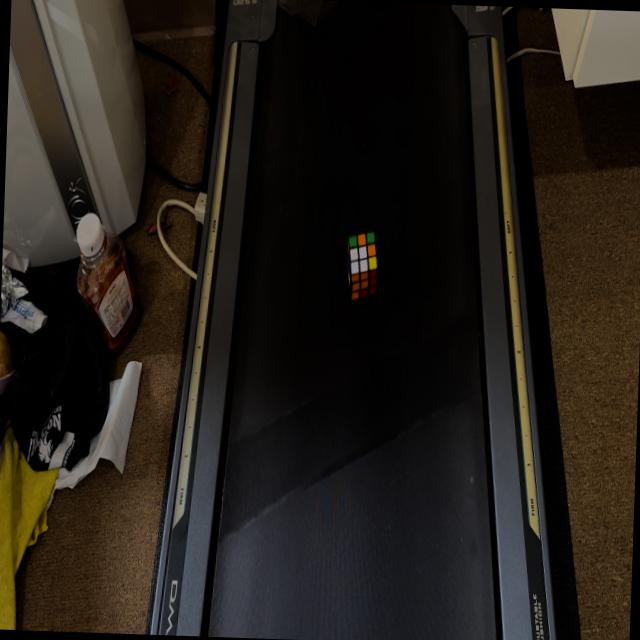Trash: (344, 229, 380, 302)
